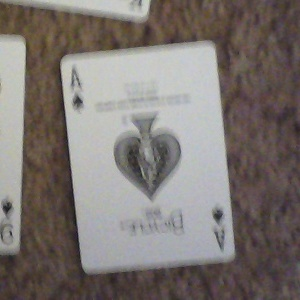card: (59, 39, 241, 273)
